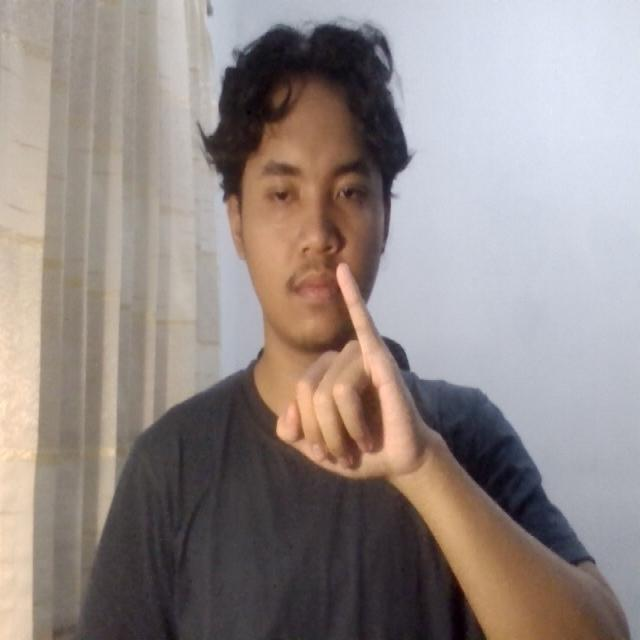Hello: (246, 251, 454, 505)
